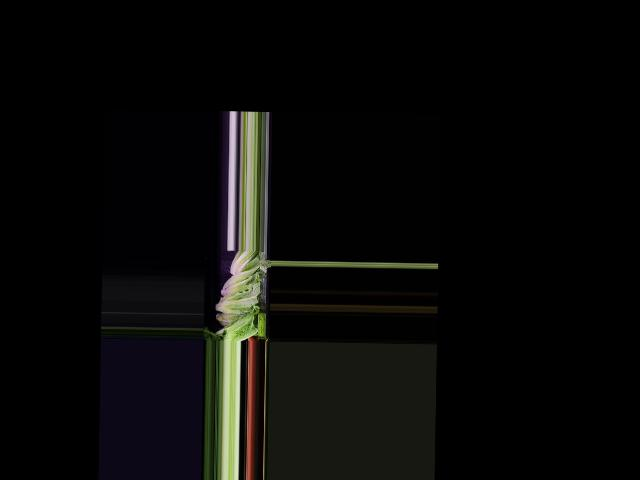lettuce: (228, 249, 258, 277)
